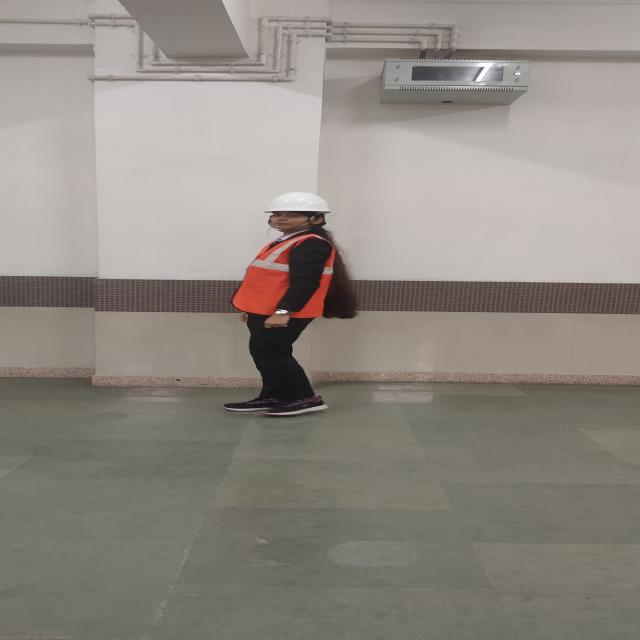safe: (232, 192, 335, 415)
